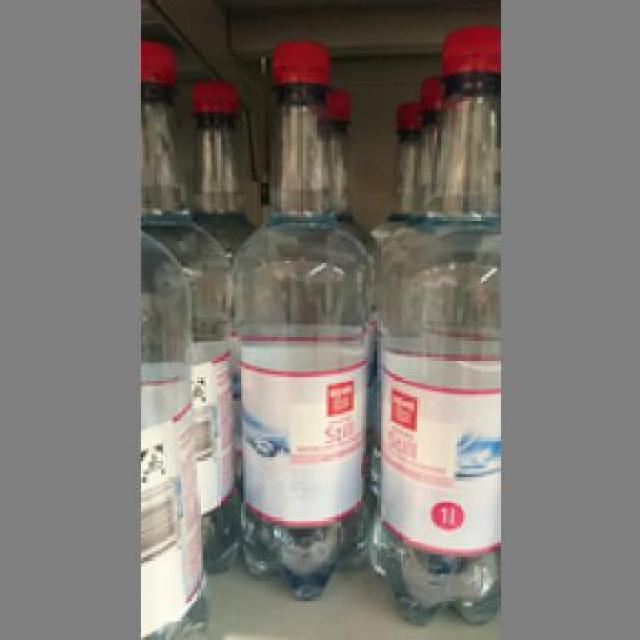Water: (229, 34, 374, 600), (369, 22, 500, 638), (136, 31, 230, 566)
